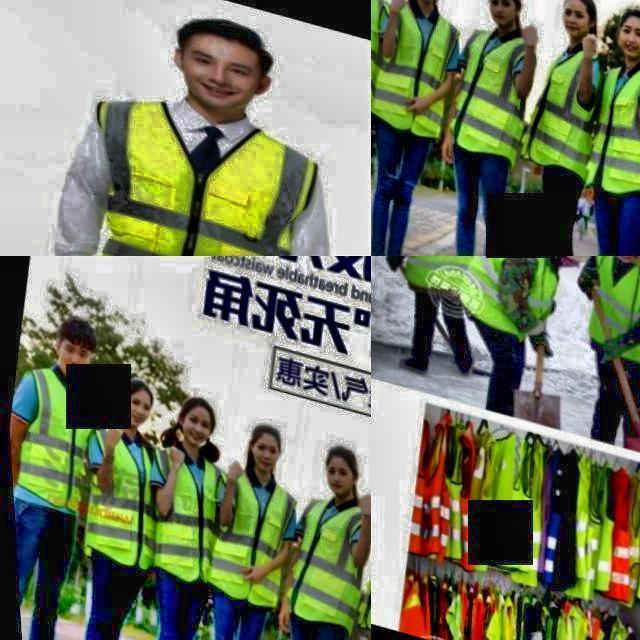safety_jacket: (66, 86, 312, 256), (76, 424, 161, 564), (208, 466, 290, 604), (371, 0, 452, 134), (451, 26, 535, 151), (288, 494, 371, 620), (18, 373, 95, 506), (148, 452, 223, 584), (457, 256, 567, 345), (469, 419, 531, 571), (526, 36, 596, 164), (584, 55, 640, 189), (574, 256, 640, 360), (394, 256, 481, 301)
